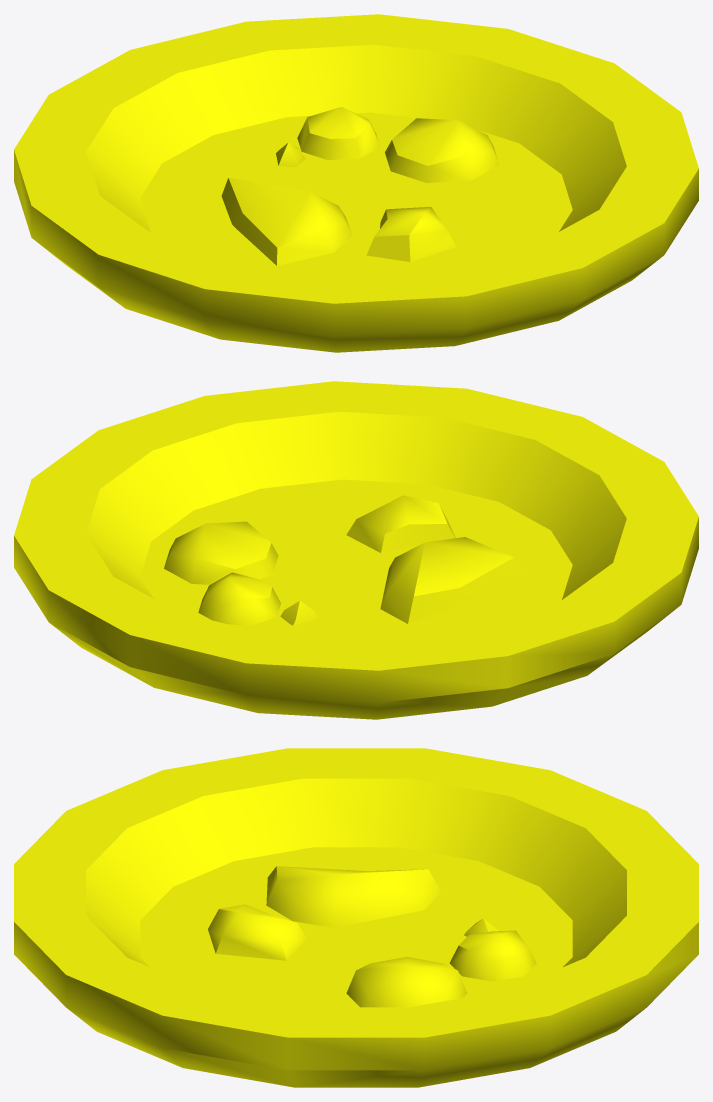
The model's file is plate_dirty.gltf.
3 views of the same model, one above another, from view 1: azimuth 30°, elevation 25°; view 2: azimuth 150°, elevation 25°; view 3: azimuth 270°, elevation 25° (orthographic).
Parts seen in each view (by area): view 1: plate_dirty; view 2: plate_dirty; view 3: plate_dirty.
Boxes of the visible parts, x1,y1,x2,y2 form: plate_dirty: (14,14,698,352); plate_dirty: (14,381,698,719); plate_dirty: (14,748,698,1087).
Bounding box in the file's own units: 0.95 × 0.1 × 0.95.
1 material, 1 textured.
